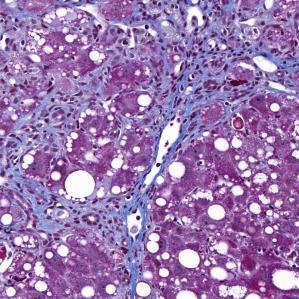fibrosis: (131, 13, 260, 105), (32, 190, 155, 256), (0, 70, 104, 143)
